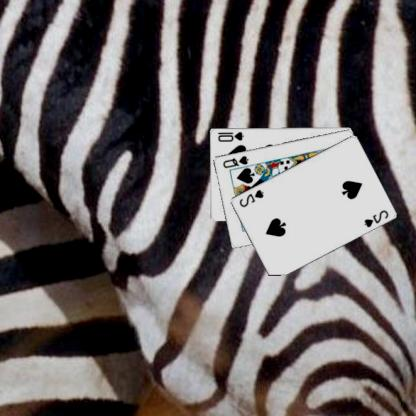10S: (217, 128, 247, 142)
2S: (238, 186, 267, 208), (363, 207, 392, 229)
QS: (222, 153, 251, 169)
